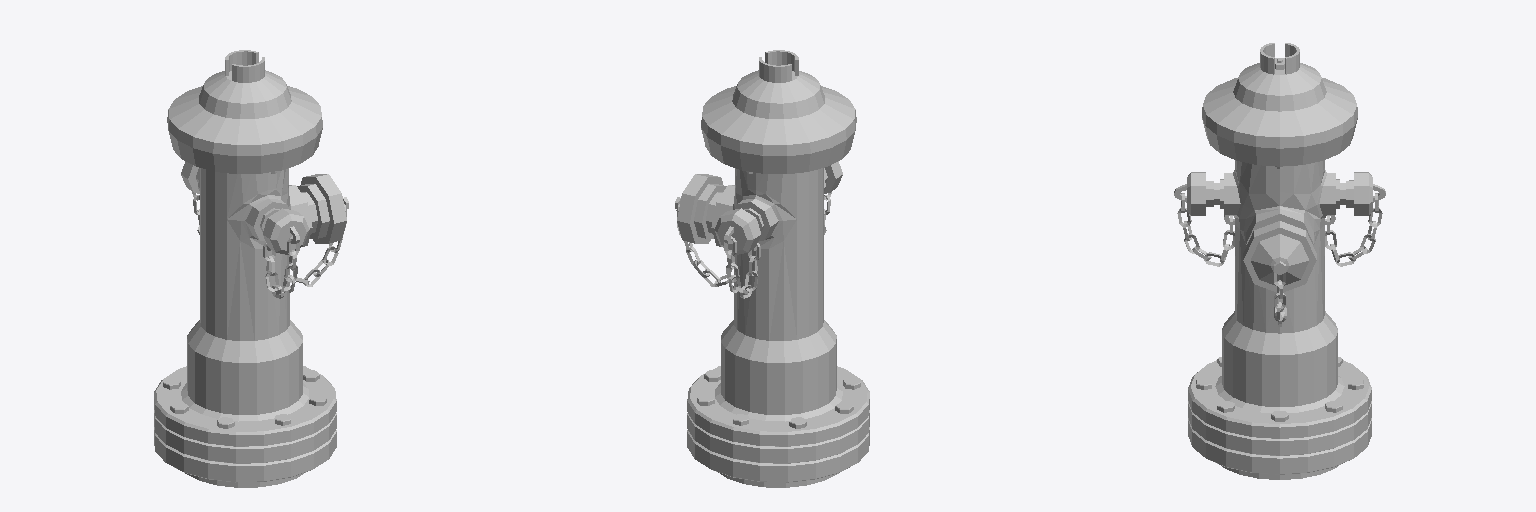
Rendered from FireHydrant_LOD1.obj.
3 views of the same model, side by side, from view 1: azimuth 30°, elevation 25°; view 2: azimuth 150°, elevation 25°; view 3: azimuth 270°, elevation 25° (orthographic).
Parts seen in each view (by area): view 1: FireHydrant_LOD1 FireHydrant; view 2: FireHydrant_LOD1 FireHydrant; view 3: FireHydrant_LOD1 FireHydrant.
Boxes of the visible parts, <box> form: FireHydrant_LOD1 FireHydrant: <box>154,50,348,487</box>; FireHydrant_LOD1 FireHydrant: <box>675,50,869,487</box>; FireHydrant_LOD1 FireHydrant: <box>1174,43,1385,479</box>.
Bounding box in the file's own units: 49.37 × 104 × 50.24.